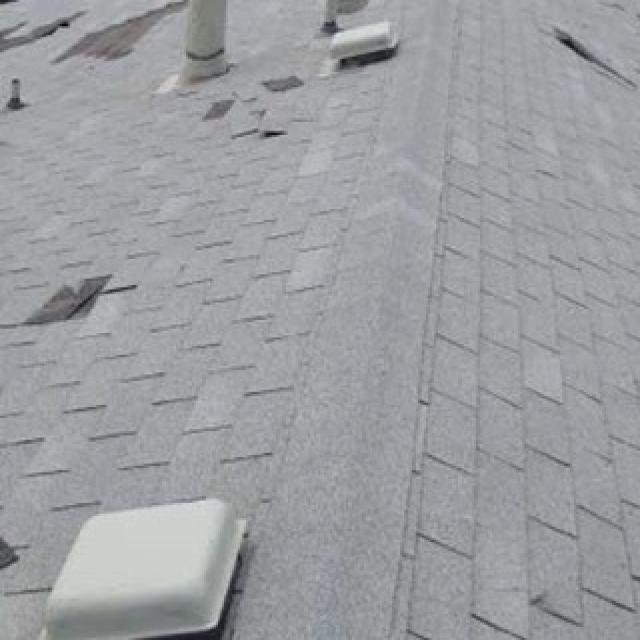damage: (49, 0, 186, 69), (537, 18, 637, 93), (190, 85, 300, 144), (16, 271, 119, 329), (0, 8, 88, 55), (261, 65, 317, 104), (0, 534, 20, 575)
